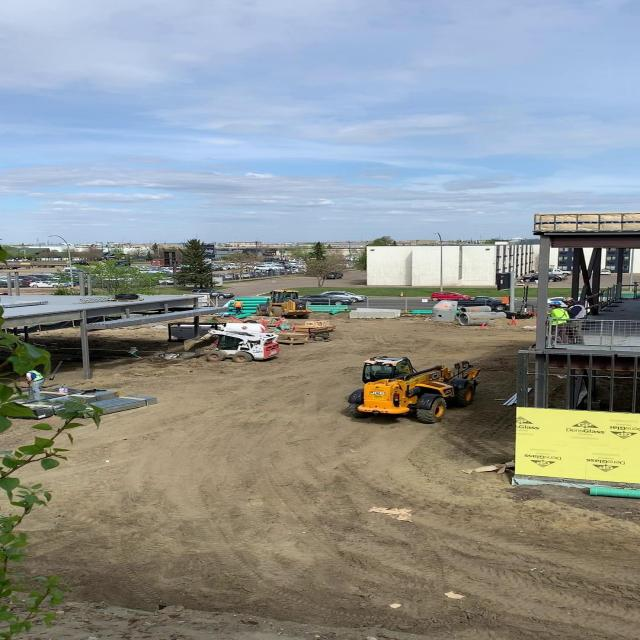Loader: (175, 328, 281, 362), (260, 289, 312, 319)
Mobile Crane: (337, 353, 484, 424)
